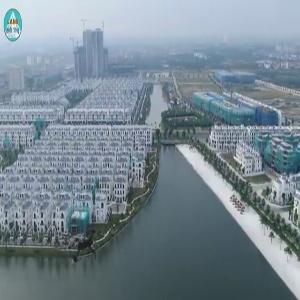drone: (48, 208, 126, 286)
